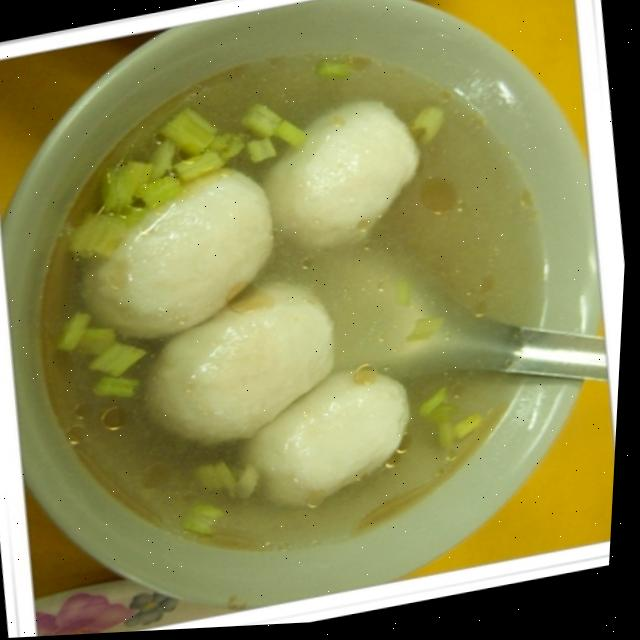熟制海鲜: (47, 50, 555, 556)
